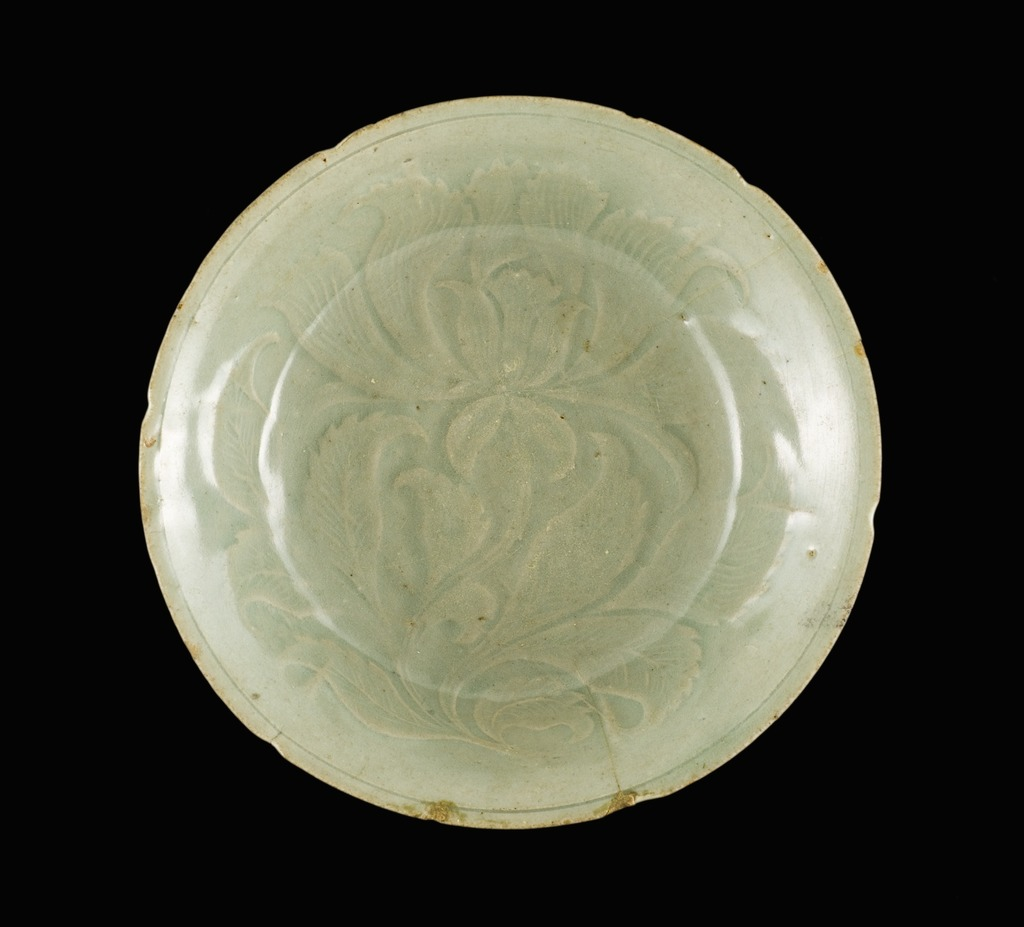plate: (138, 88, 880, 833)
